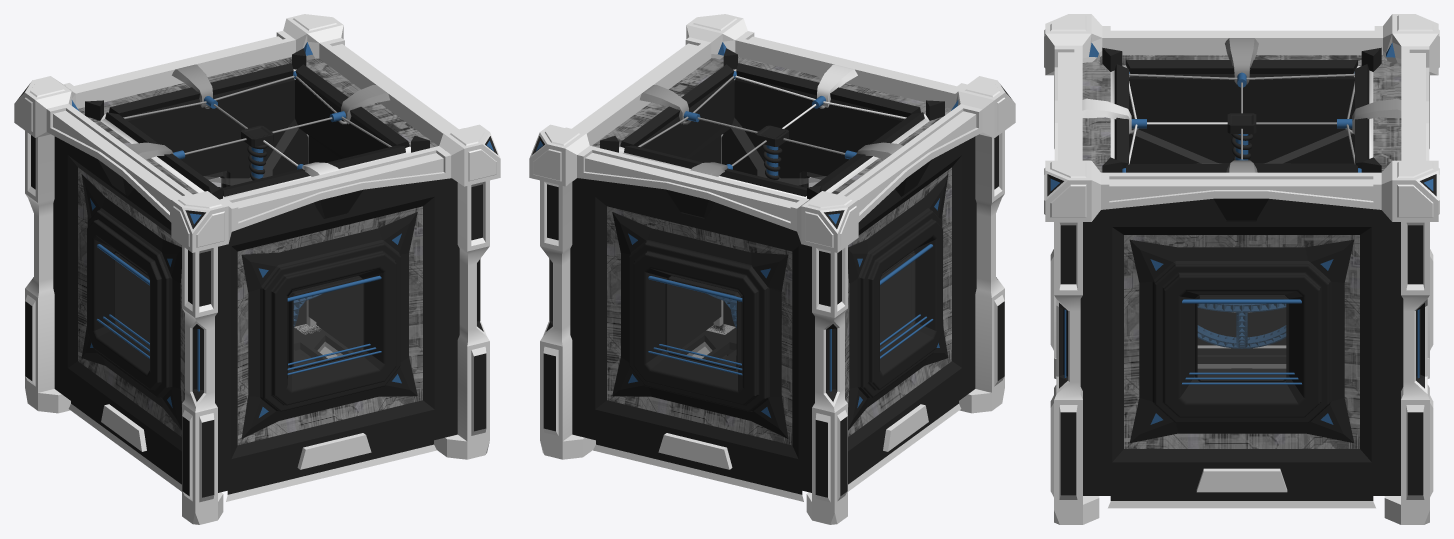
File: clone-cube.obj
3 renders of one model, left to right at view 1: azimuth 30°, elevation 25°; view 2: azimuth 150°, elevation 25°; view 3: azimuth 270°, elevation 25°, orthographic. The views are drawn at different scales.
Visible parts, largest first — view 1: Box001, Box006, Box017, Box012, Box018, Box003, Box004, Box005, InsideCover003, InsideCover004, Box008, Box014; view 2: Box001, Box004, Box018, Box019, Box003, Box017, Box006, InsideCover001, Box005, InsideCover004, Box015, Box014; view 3: Box001, Box005, Box012, Box019, InsideCover002, Box003, Box004, Box006, Tube003, Box016, Box008, Box015 (+6 smaller).
Boxes of the visible parts, x1=… form: Box001: x1=53, y1=48, x2=459, y2=501; Box006: x1=171, y1=146, x2=451, y2=252; Box017: x1=182, y1=246, x2=223, y2=524; Box012: x1=434, y1=180, x2=489, y2=459; Box018: x1=25, y1=131, x2=70, y2=413; Box003: x1=14, y1=76, x2=192, y2=222; Box004: x1=63, y1=14, x2=343, y2=108; Box005: x1=319, y1=37, x2=500, y2=186; InsideCover003: x1=118, y1=127, x2=305, y2=346; InsideCover004: x1=308, y1=135, x2=362, y2=351; Box008: x1=172, y1=64, x2=212, y2=107; Box014: x1=341, y1=85, x2=389, y2=124; Box001: x1=570, y1=48, x2=976, y2=501; Box004: x1=529, y1=124, x2=809, y2=231; Box018: x1=806, y1=246, x2=847, y2=524; Box019: x1=540, y1=180, x2=595, y2=459; Box003: x1=797, y1=104, x2=982, y2=252; Box017: x1=959, y1=131, x2=1004, y2=413; Box006: x1=735, y1=31, x2=1015, y2=137; InsideCover001: x1=724, y1=126, x2=911, y2=346; Box005: x1=565, y1=14, x2=747, y2=145; InsideCover004: x1=667, y1=135, x2=721, y2=351; Box015: x1=817, y1=64, x2=857, y2=107; Box014: x1=640, y1=84, x2=688, y2=124; Box001: x1=1080, y1=47, x2=1403, y2=508; Box005: x1=1044, y1=160, x2=1381, y2=221; Box012: x1=1050, y1=222, x2=1099, y2=524; Box019: x1=1384, y1=222, x2=1433, y2=524; InsideCover002: x1=1129, y1=129, x2=1354, y2=345; Box003: x1=1102, y1=14, x2=1439, y2=75; Box004: x1=1381, y1=46, x2=1439, y2=221; Box006: x1=1044, y1=14, x2=1102, y2=160; Tube003: x1=1197, y1=325, x2=1286, y2=348; Box016: x1=1225, y1=38, x2=1258, y2=84; Box008: x1=1352, y1=98, x2=1401, y2=133; Box015: x1=1082, y1=98, x2=1131, y2=133.
Bounding box in the file's own units: 48.56 × 47.33 × 48.56.
8 materials, 1 textured.
